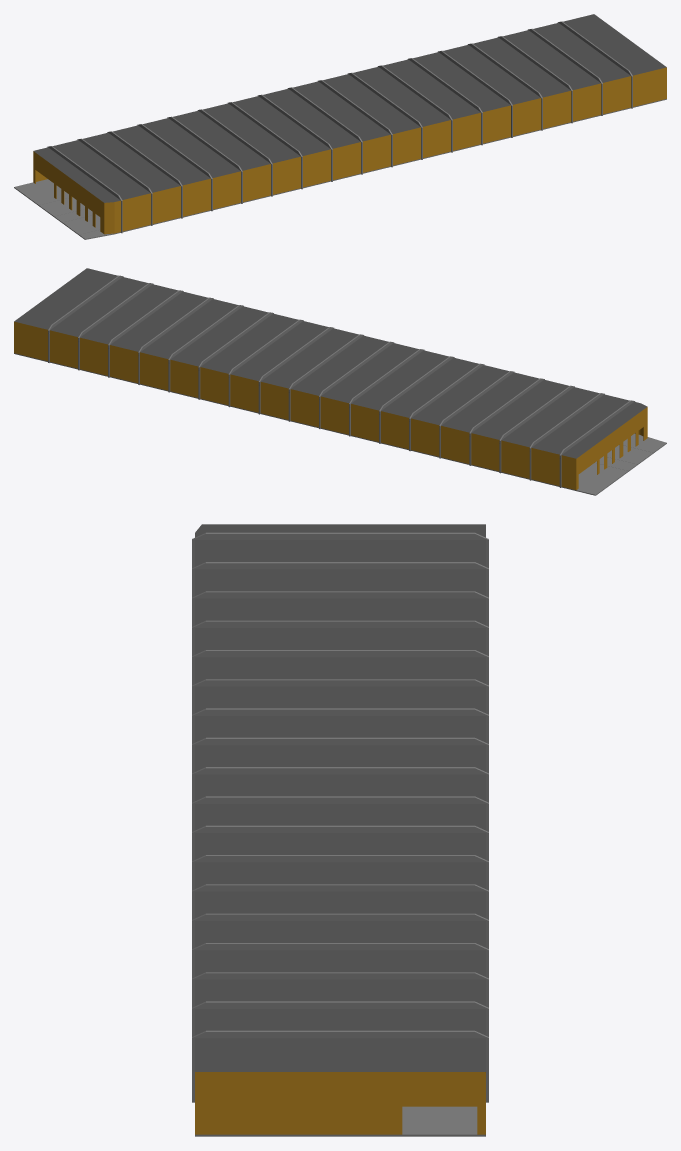
3 renders of one model, top to bottom at view 1: azimuth 30°, elevation 25°; view 2: azimuth 150°, elevation 25°; view 3: azimuth 270°, elevation 25°, orthographic. The views are drawn at different scales.
Visible parts, largest first — view 1: Cube.001_Baked, Cube.002_Baked, Cube_Baked, Cube.003_Baked; view 2: Cube.001_Baked, Cube.002_Baked, Cube_Baked, Cube.003_Baked; view 3: Cube.001_Baked, Cube.002_Baked, Cube_Baked, Cube.003_Baked.
Part boxes in pixels (x1,y1,x2,y2): Cube.001_Baked: [33, 14, 666, 234]; Cube.002_Baked: [47, 21, 632, 203]; Cube_Baked: [14, 99, 666, 239]; Cube.003_Baked: [121, 79, 632, 233]; Cube.001_Baked: [14, 268, 647, 490]; Cube.002_Baked: [48, 275, 635, 458]; Cube_Baked: [14, 353, 666, 495]; Cube.003_Baked: [48, 333, 561, 487]; Cube.001_Baked: [195, 524, 485, 1134]; Cube.002_Baked: [192, 532, 488, 1044]; Cube_Baked: [195, 1106, 485, 1136]; Cube.003_Baked: [192, 546, 488, 1102].
Size of the model in its own units: 966 by 56.4 by 214.
Materials: 1 (1 with a texture image).
